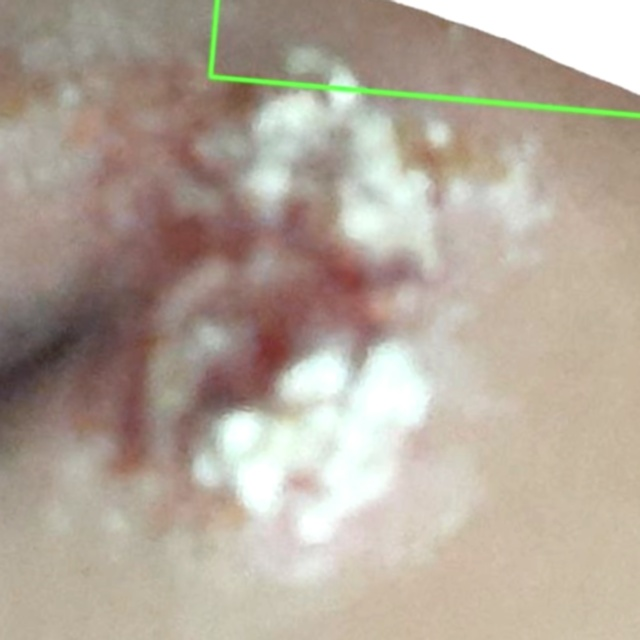Eczema: (210, 0, 639, 115)
